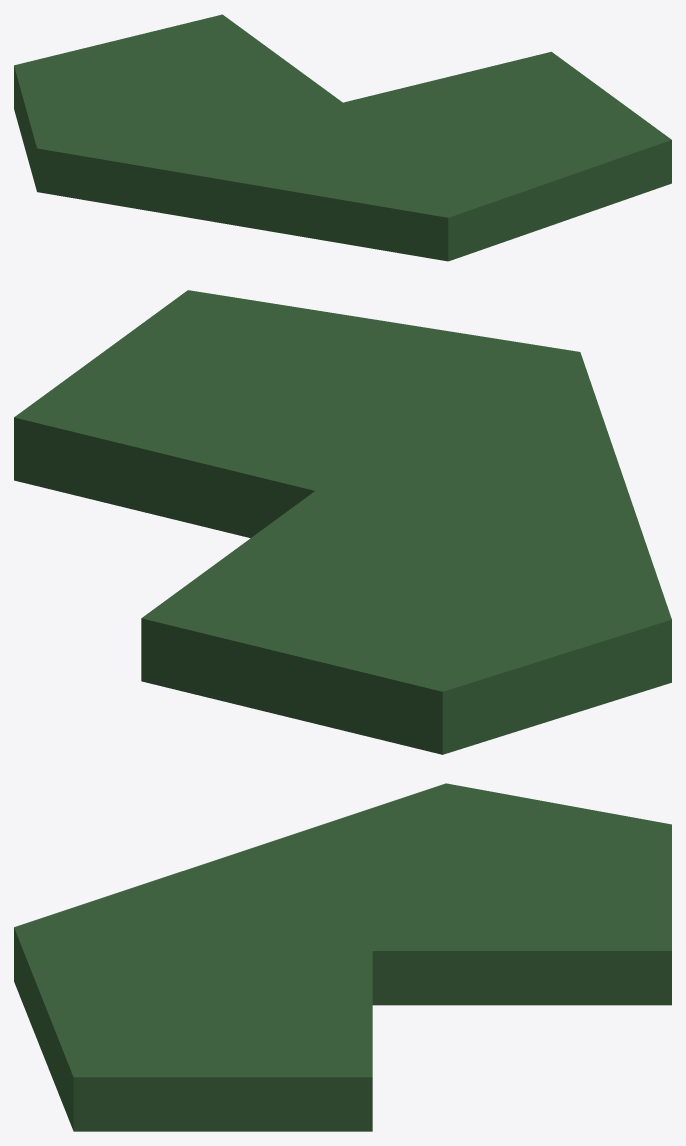
Rendered from x_proval_00_100_1_rmstrd.fbx.
3 views of the same model, one above another, from view 1: azimuth 30°, elevation 25°; view 2: azimuth 150°, elevation 25°; view 3: azimuth 270°, elevation 25° (orthographic). The views are drawn at different scales.
Visible parts, largest first — view 1: x_proval_00_100_1_rmstrd1; view 2: x_proval_00_100_1_rmstrd1; view 3: x_proval_00_100_1_rmstrd1.
Boxes of the visible parts, box(x1,y1,x2,y2) form: x_proval_00_100_1_rmstrd1: box(14, 14, 671, 261); x_proval_00_100_1_rmstrd1: box(14, 290, 671, 754); x_proval_00_100_1_rmstrd1: box(14, 783, 671, 1131).
Bounding box in the file's own units: 2.33 × 0.2 × 2.2.
